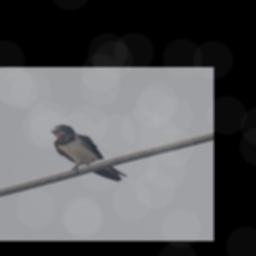Swallow: (44, 116, 129, 191)
